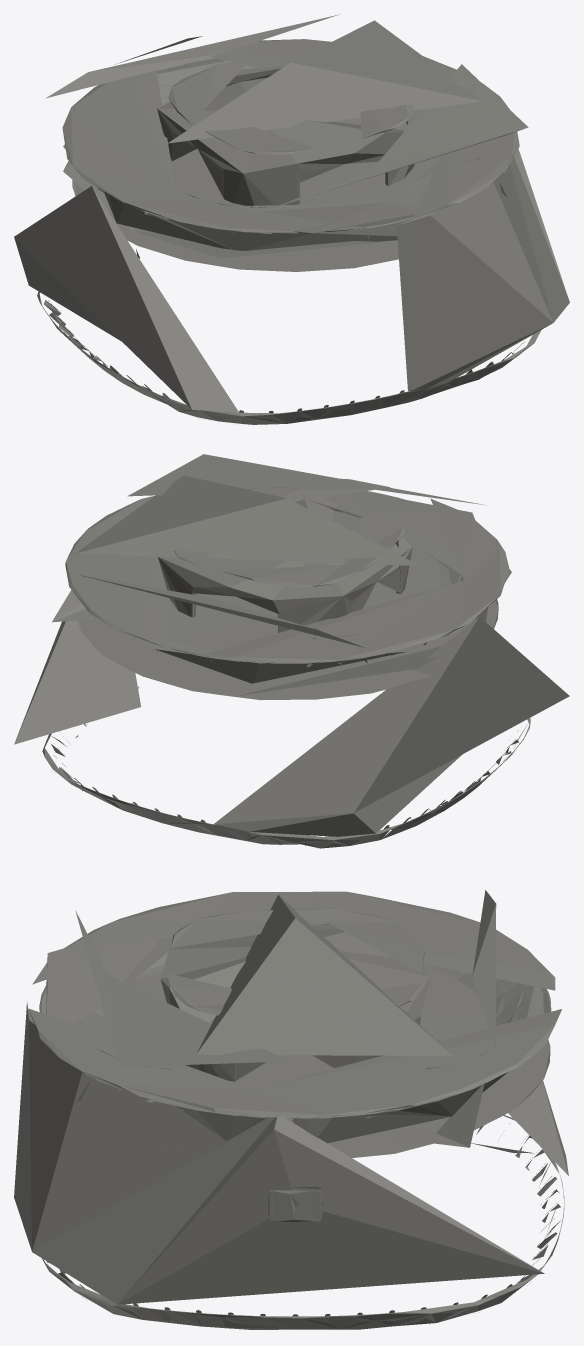
Rendered from detector_smoke_fire_a01.glb.
3 views of the same model, one above another, from view 1: azimuth 30°, elevation 25°; view 2: azimuth 150°, elevation 25°; view 3: azimuth 270°, elevation 25° (orthographic). The views are drawn at different scales.
Visible parts, largest first — view 1: geometry_0; view 2: geometry_0; view 3: geometry_0.
Part boxes in pixels (x1=…): geometry_0: x1=14, y1=14, x2=569, y2=424; geometry_0: x1=14, y1=454, x2=569, y2=848; geometry_0: x1=14, y1=890, x2=568, y2=1329.
Bounding box in the file's own units: 0.4198 × 0.2588 × 0.42.
1 material, 1 textured.
